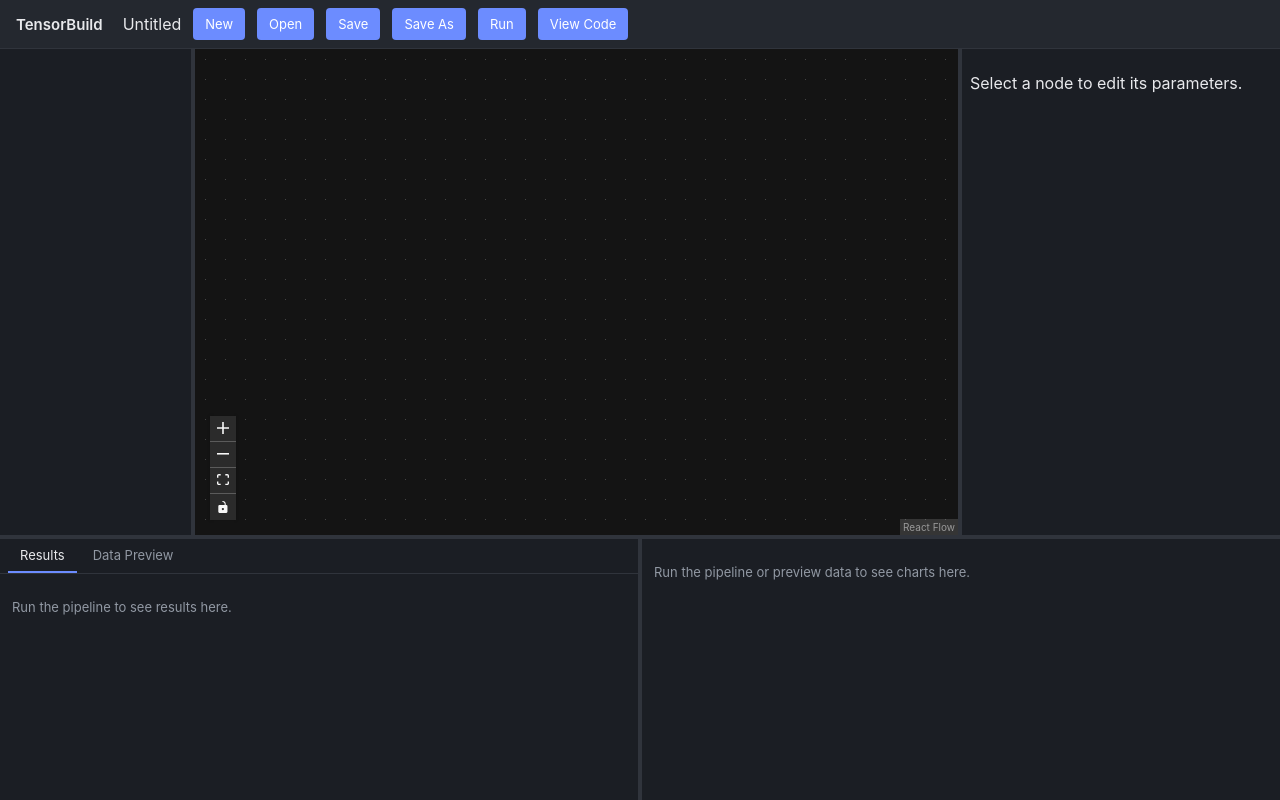
Test: App › shows a "Running…" state and a training heading in the visualizations panel when the run mutation returns an async outcome
The width and height of the screenshot is (1280, 800).
Click the button "Run" at (502, 24), box x1=478 y1=8 x2=526 y2=40
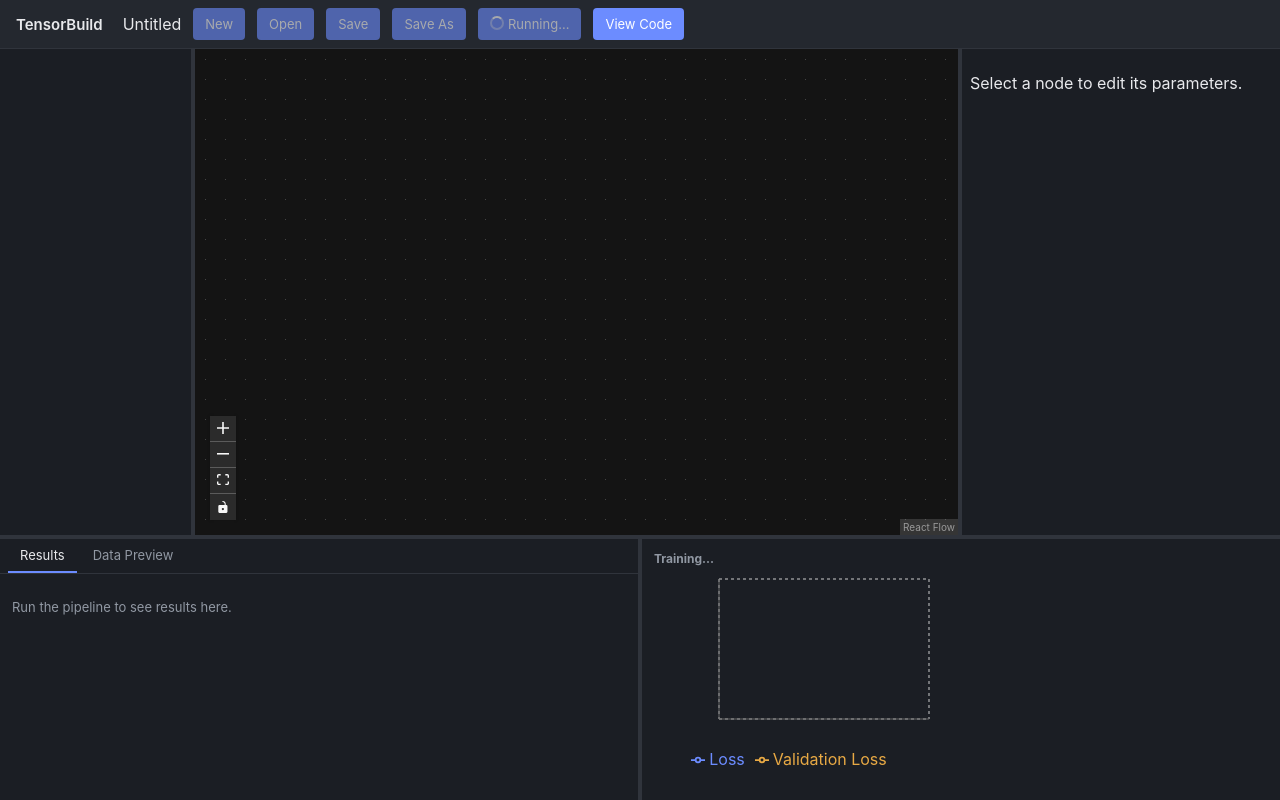
Expected: the button "Running…" is disabled, x1=478 y1=8 x2=582 y2=40
Expected: the heading "Training…" is shown, x1=654 y1=550 x2=714 y2=566
